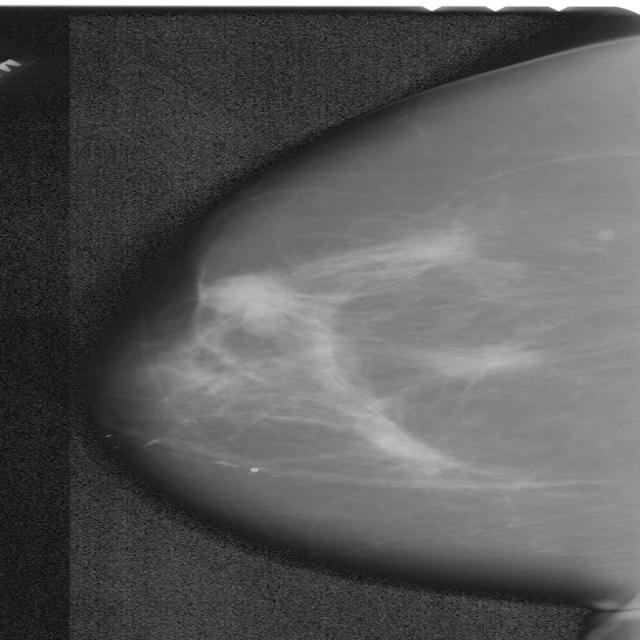tumour: (200, 274, 302, 329)
